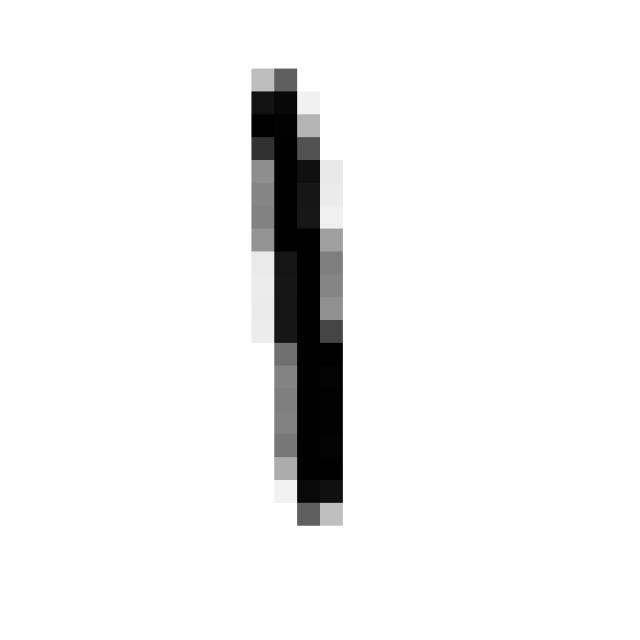1 -one-: (220, 48, 367, 549)
